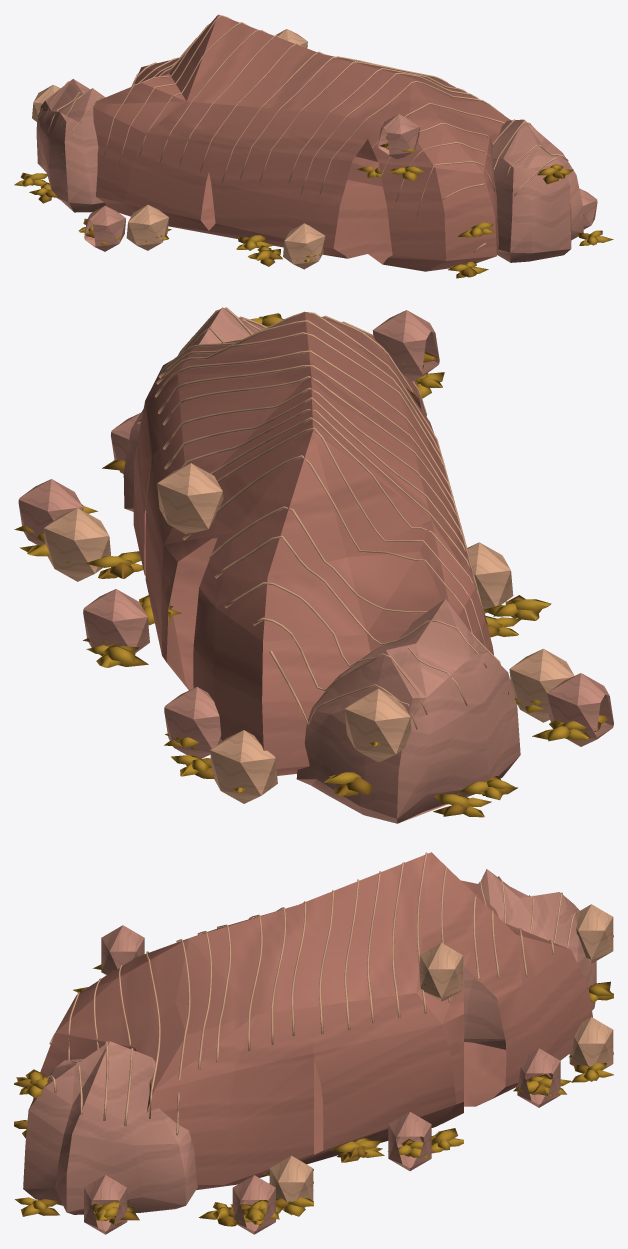
Rendered from PilotRidgeSE_3.fbx.
3 views of the same model, one above another, from view 1: azimuth 30°, elevation 25°; view 2: azimuth 150°, elevation 25°; view 3: azimuth 270°, elevation 25° (orthographic). The views are drawn at different scales.
Parts seen in each view (by area): view 1: PilotRidgeSE_3__Geometry; view 2: PilotRidgeSE_3__Geometry; view 3: PilotRidgeSE_3__Geometry.
Boxes of the visible parts, x1=… form: PilotRidgeSE_3__Geometry: x1=14, y1=14, x2=613, y2=278; PilotRidgeSE_3__Geometry: x1=14, y1=307, x2=613, y2=823; PilotRidgeSE_3__Geometry: x1=14, y1=852, x2=613, y2=1234.
Size of the model in its own units: 4 by 1.74 by 4.
